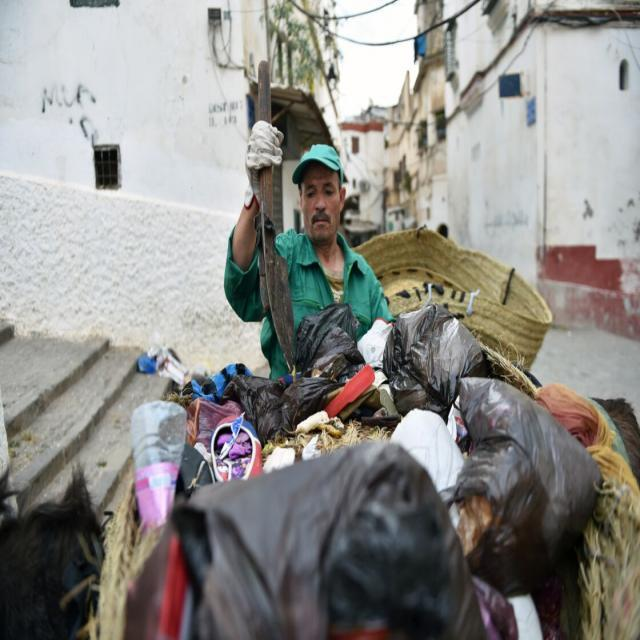garbage: (115, 300, 640, 640)
